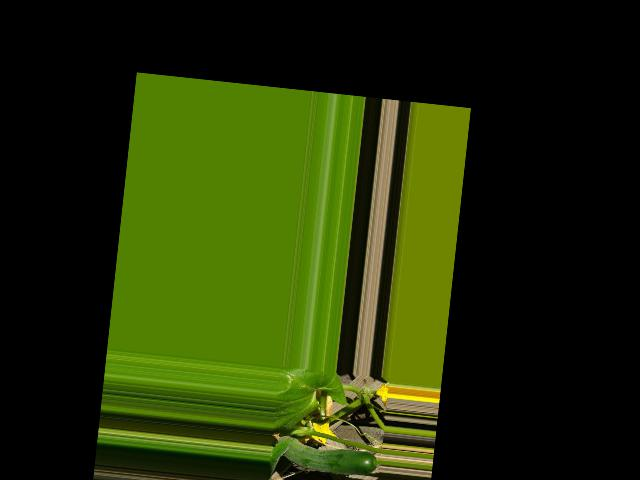cucumber: (269, 434, 377, 478)
